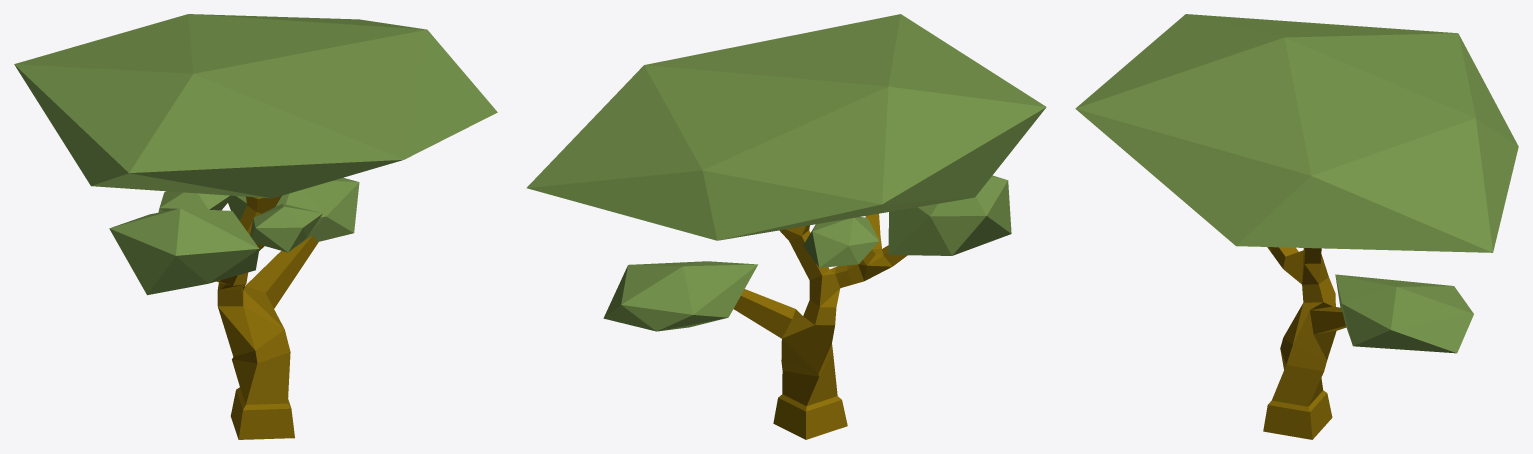
File: Olive3.fbx
3 views of the same model, side by side, from view 1: azimuth 30°, elevation 25°; view 2: azimuth 150°, elevation 25°; view 3: azimuth 270°, elevation 25° (orthographic). The views are drawn at different scales.
Parts seen in each view (by area): view 1: Tree3; view 2: Tree3; view 3: Tree3.
Part boxes in pixels (left/top/right/bottom): Tree3: left=14, top=14, right=497, bottom=439; Tree3: left=526, top=14, right=1046, bottom=439; Tree3: left=1075, top=14, right=1518, bottom=439.
Size of the model in its own units: 1060 by 968 by 1102.
